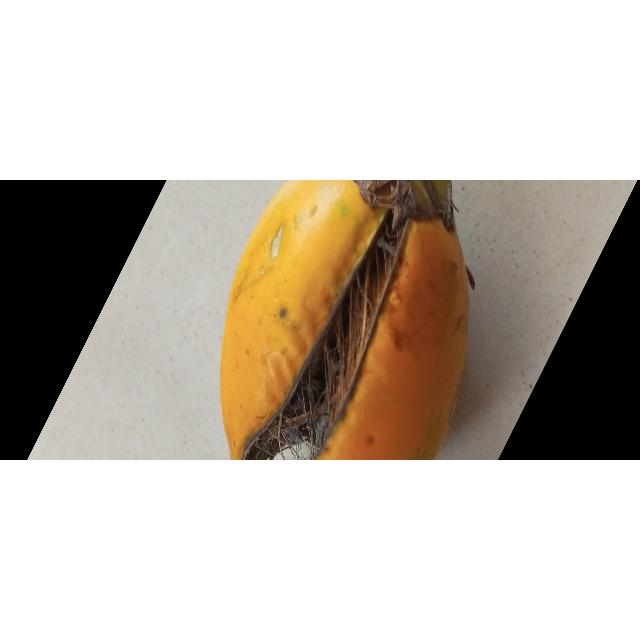damaged: (218, 180, 473, 461)
